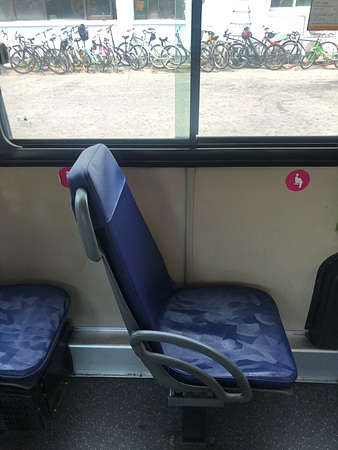seat: (69, 145, 297, 387)
